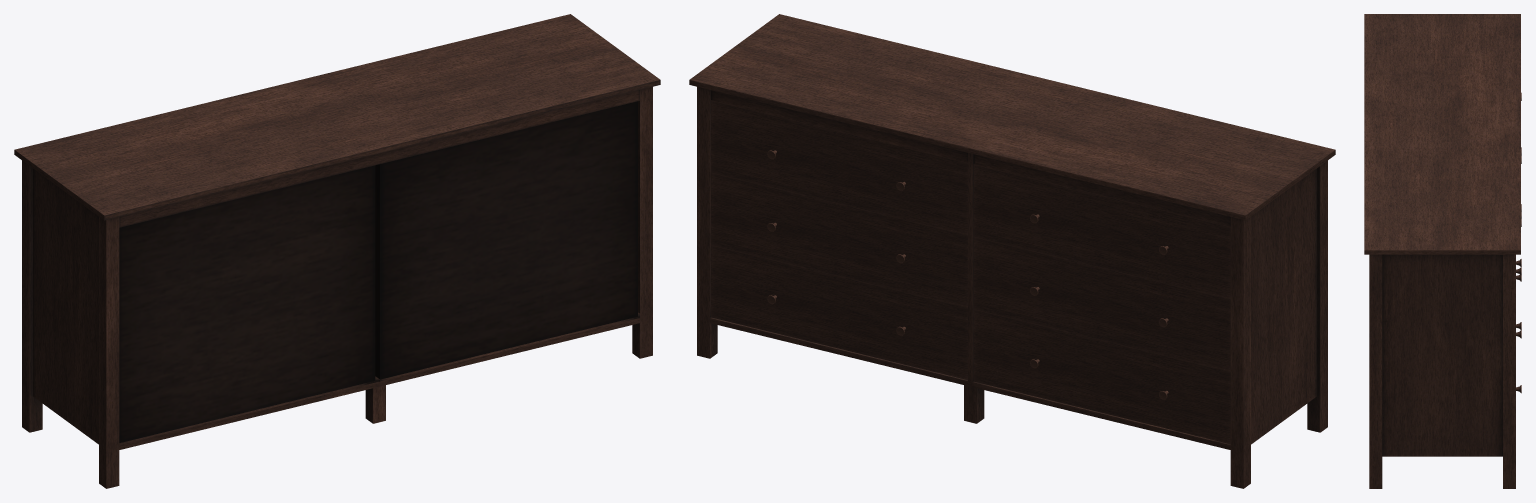
File: game_ready__bedroom_shelf.glb
3 views of the same model, side by side, from view 1: azimuth 30°, elevation 25°; view 2: azimuth 150°, elevation 25°; view 3: azimuth 270°, elevation 25° (orthographic). The views are drawn at different scales.
Visible parts, largest first — view 1: Base_Bedroom_Shelf_0; view 2: Base_Bedroom_Shelf_0, Box_05_Bedroom_Shelf_0, Box_04_Bedroom_Shelf_0, Box_06_Bedroom_Shelf_0, Box_03_Bedroom_Shelf_0, Box_01_Bedroom_Shelf_0, Box_02_Bedroom_Shelf_0; view 3: Base_Bedroom_Shelf_0.
Boxes of the visible parts, bbox=[...] form: Base_Bedroom_Shelf_0: bbox=[14, 14, 660, 488]; Base_Bedroom_Shelf_0: bbox=[689, 14, 1335, 488]; Box_05_Bedroom_Shelf_0: bbox=[973, 236, 1230, 371]; Box_04_Bedroom_Shelf_0: bbox=[973, 164, 1230, 299]; Box_06_Bedroom_Shelf_0: bbox=[973, 309, 1230, 443]; Box_03_Bedroom_Shelf_0: bbox=[711, 245, 967, 379]; Box_01_Bedroom_Shelf_0: bbox=[711, 100, 967, 234]; Box_02_Bedroom_Shelf_0: bbox=[711, 172, 967, 307]; Base_Bedroom_Shelf_0: bbox=[1364, 14, 1520, 488].
Bounding box in the file's own units: 1.71 × 0.815 × 0.4825.
Materials: 1 (1 with a texture image).
